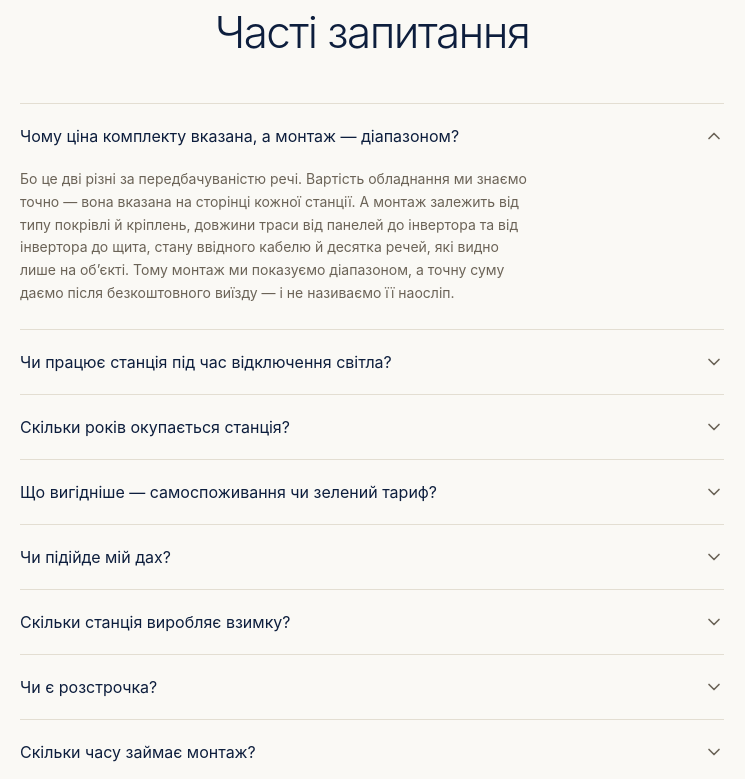
Faq › toggles an answer open and closed on click
This screenshot has width=745, height=779.
Click the button "Чи працює станція під час відключення світла?" at (372, 362), box 20,330 -> 724,394
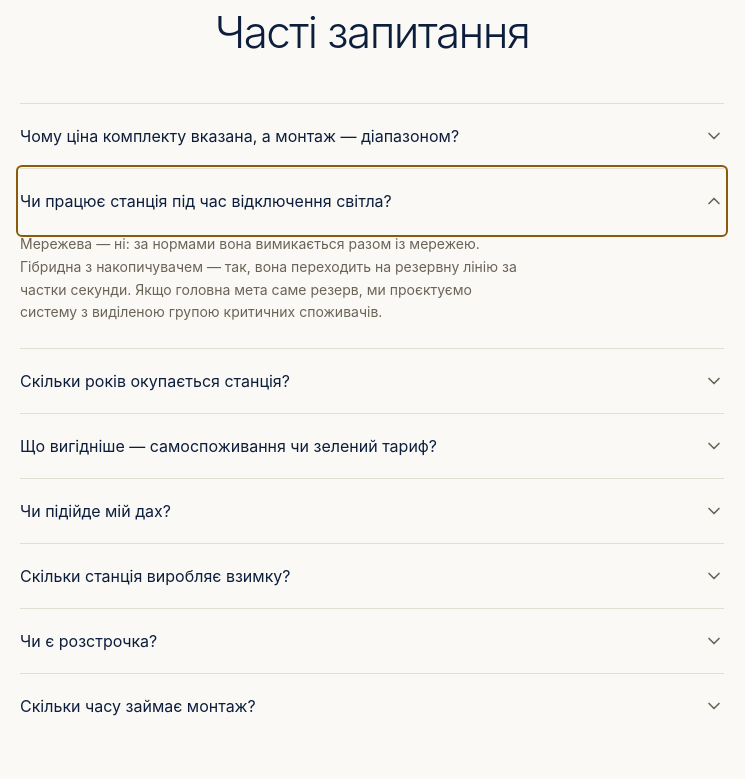
Now the text "Мережева — ні: за нормами вона вимикається разом із мережею. Гібридна з накопичувачем — так, вона переходить на резервну" is shown, box 20,235 -> 517,320
Click the button "Чи працює станція під час відключення світла?" at (372, 201), box 20,169 -> 724,233
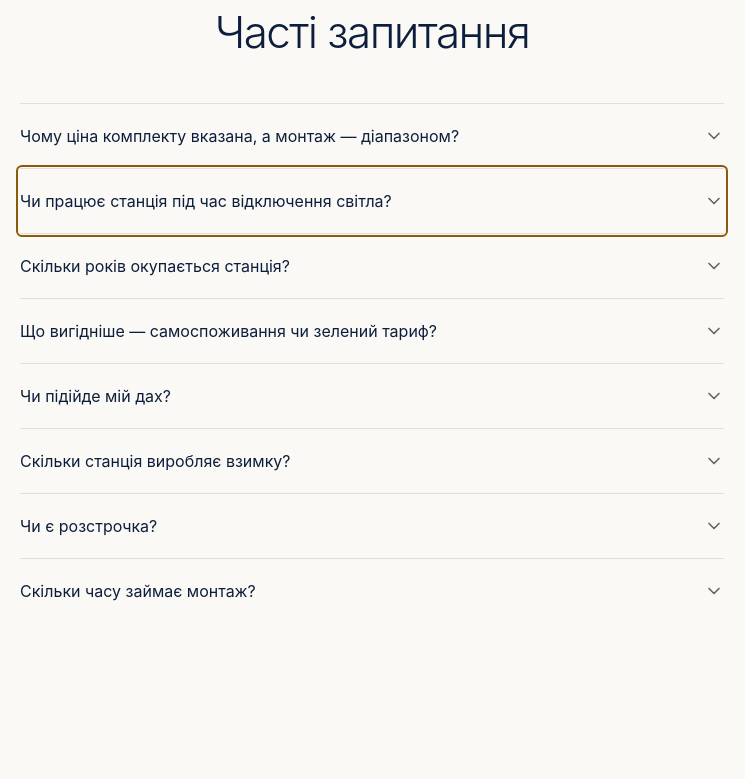
Now the text "Мережева — ні: за нормами вона вимикається разом із мережею. Гібридна з накопичувачем — так, вона переходить на резервну" is gone
